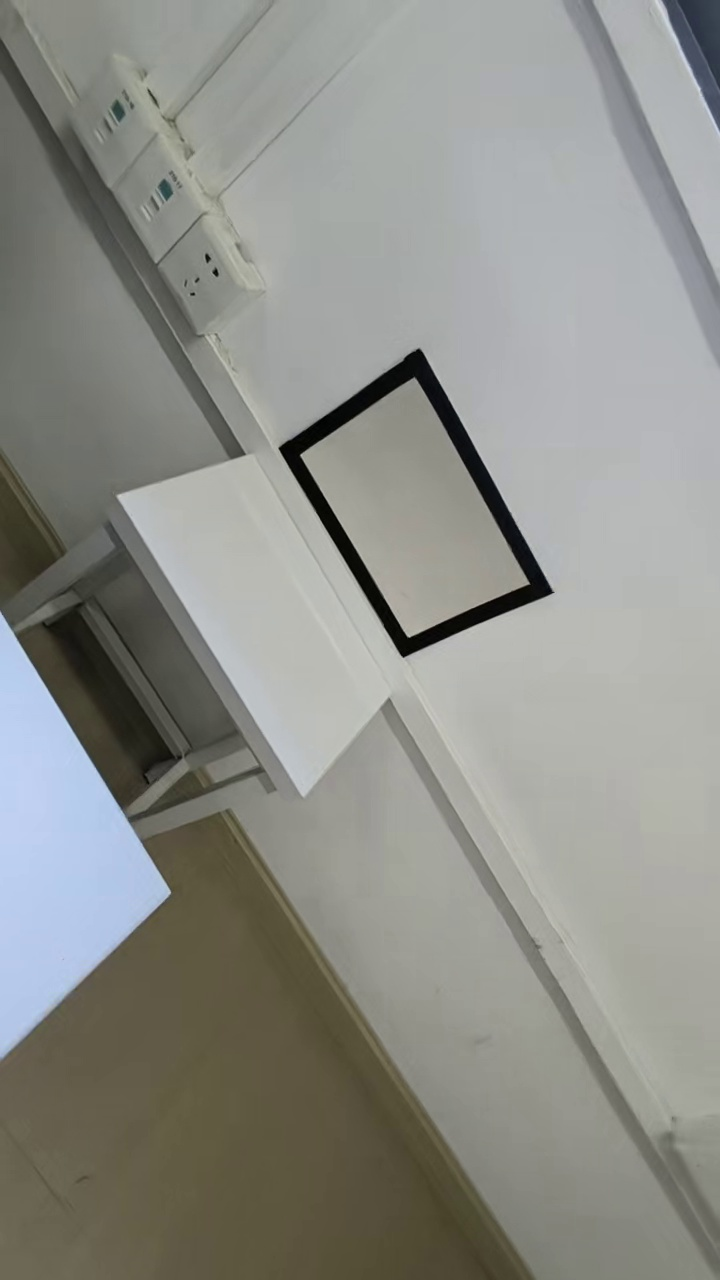board: (278, 350, 550, 652)
